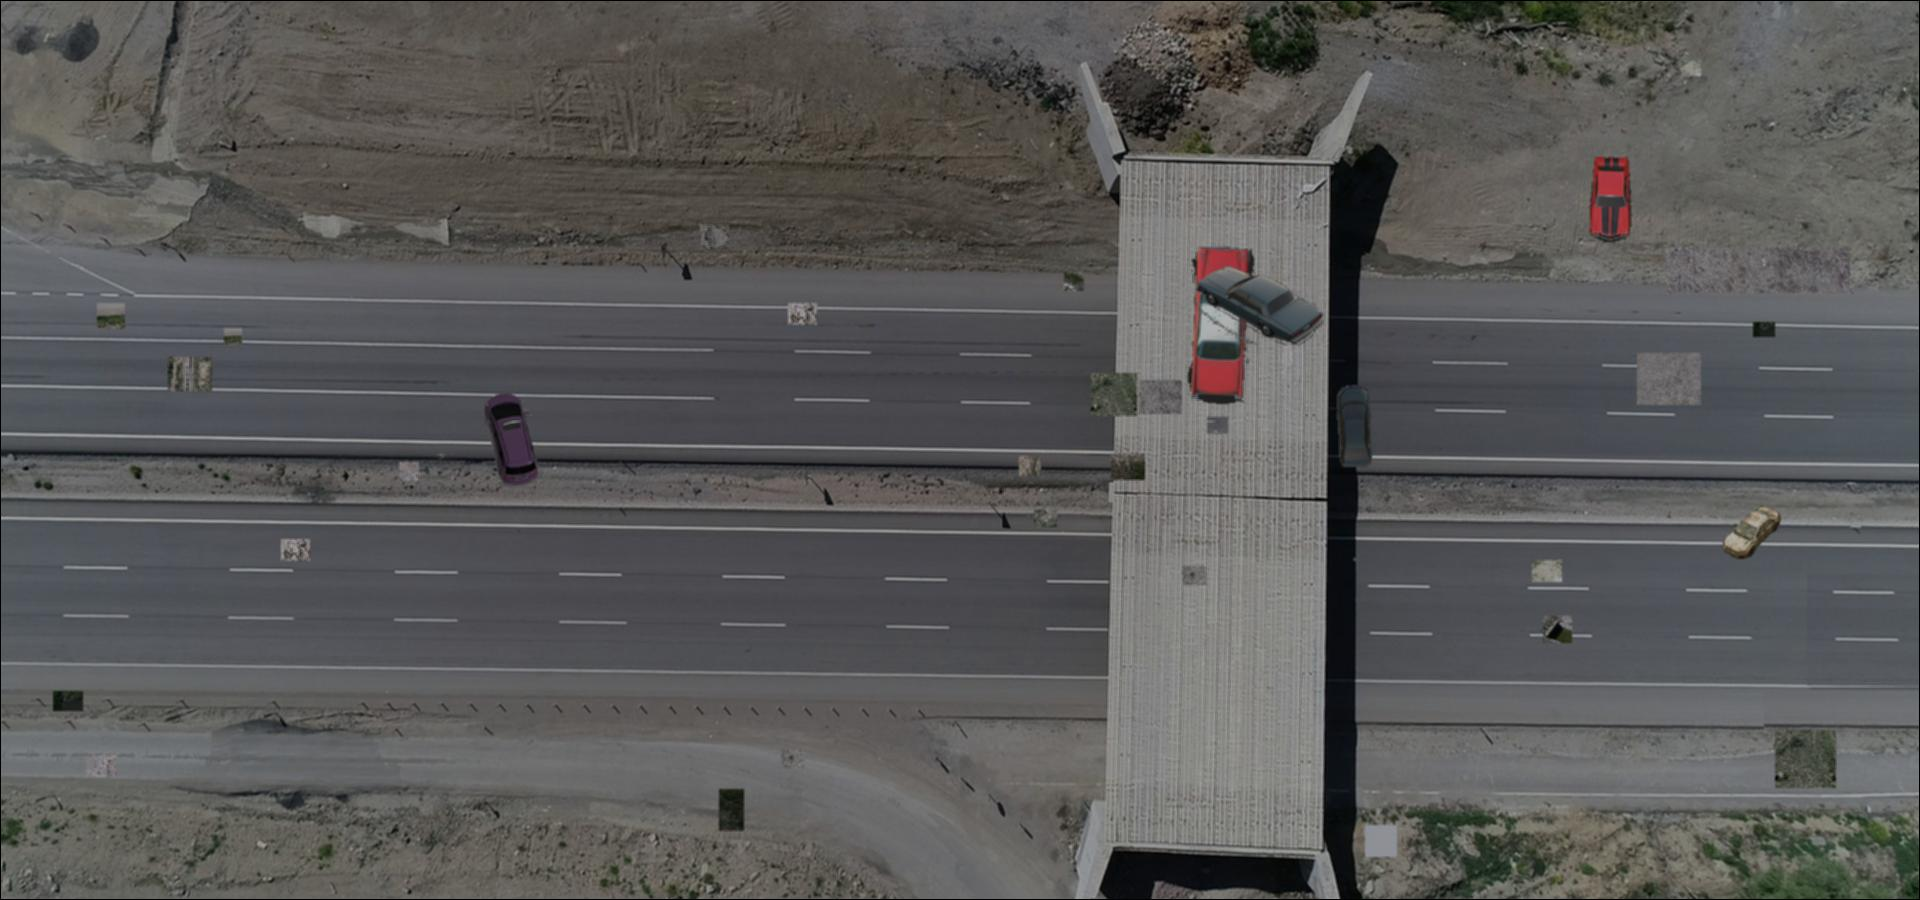arac: (1187, 247, 1255, 407), (1191, 264, 1324, 345), (482, 394, 545, 487), (1584, 154, 1636, 242), (1329, 382, 1375, 467), (1722, 506, 1787, 562)
